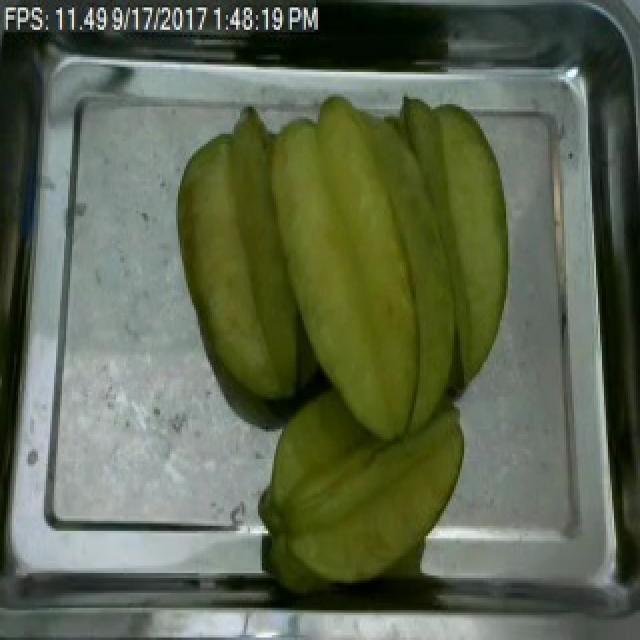fruit: (170, 82, 532, 456), (250, 389, 476, 598)
